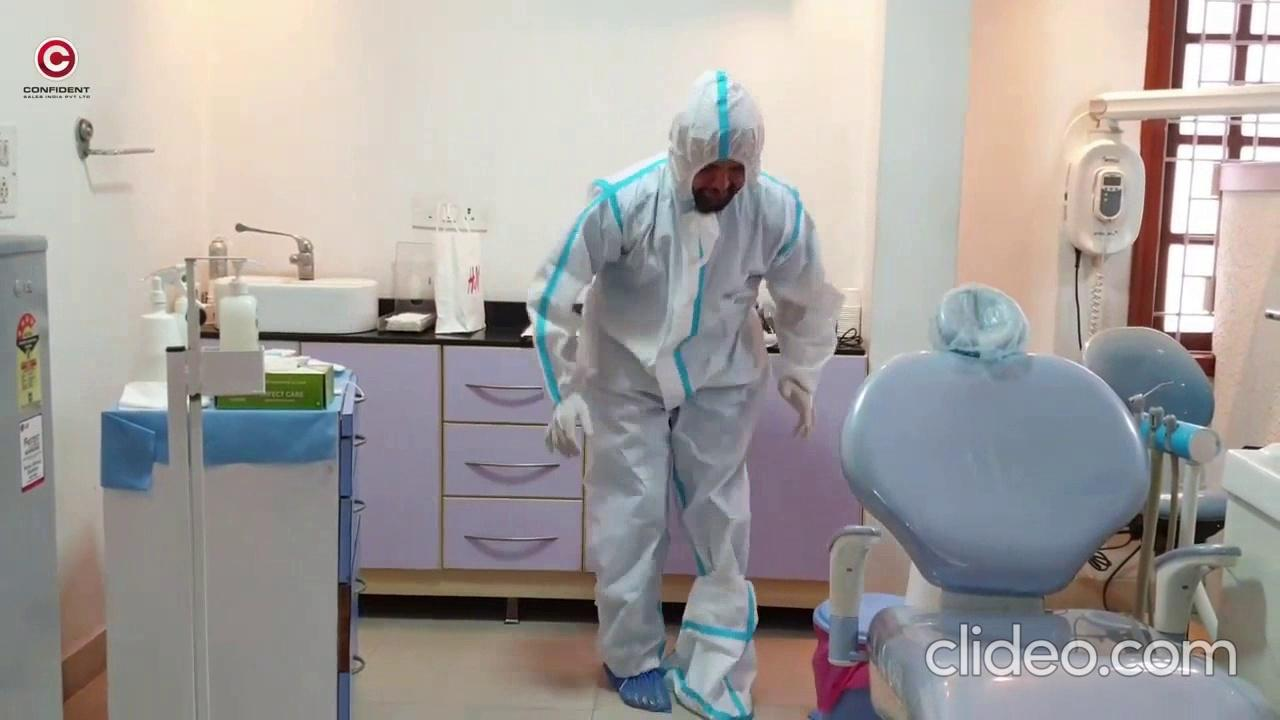Gloves On: (545, 392, 592, 458), (778, 378, 815, 437)
Hairnet On: (670, 70, 765, 200)
Suit On: (530, 155, 838, 718)
